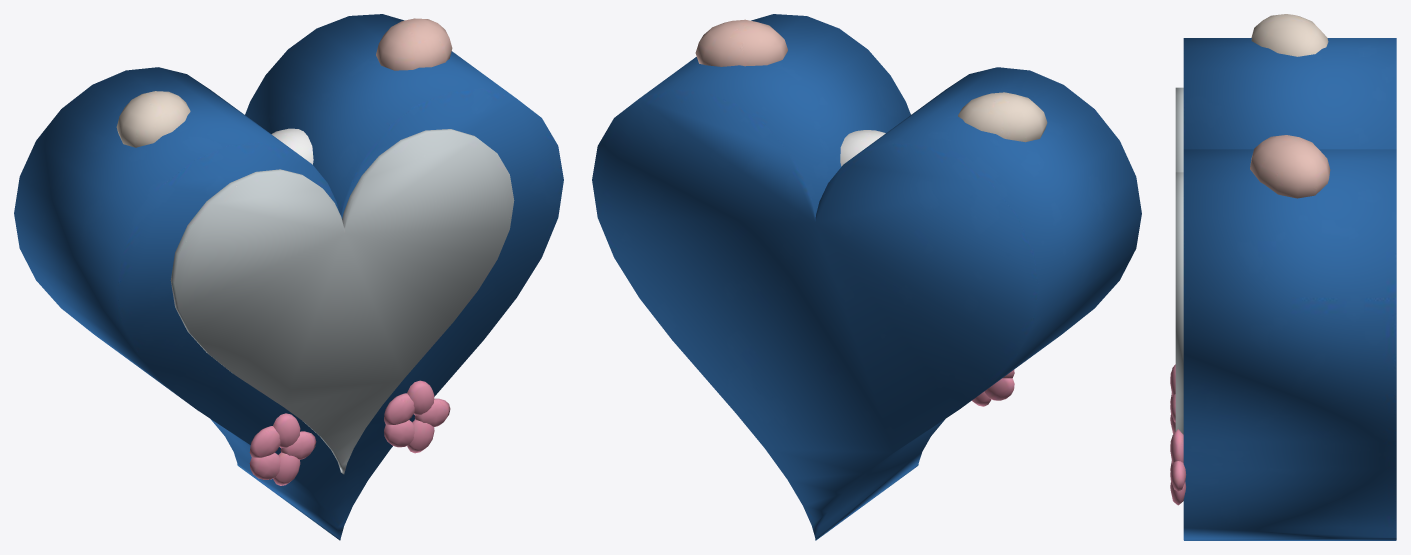
Rendered from keepsake-heart-mirror-box.glb.
3 views of the same model, side by side, from view 1: azimuth 30°, elevation 25°; view 2: azimuth 150°, elevation 25°; view 3: azimuth 270°, elevation 25° (orthographic). The views are drawn at different scales.
Visible parts, largest first — view 1: keepsake-heart-mirror-box; view 2: keepsake-heart-mirror-box; view 3: keepsake-heart-mirror-box.
Boxes of the visible parts, box(x1,y1,x2,y2) form: keepsake-heart-mirror-box: box(14, 14, 563, 540); keepsake-heart-mirror-box: box(592, 14, 1141, 540); keepsake-heart-mirror-box: box(1170, 14, 1396, 540).
Size of the model in its own units: 0.1041 by 0.1 by 0.0443.
Materials: 1 (1 with a texture image).
